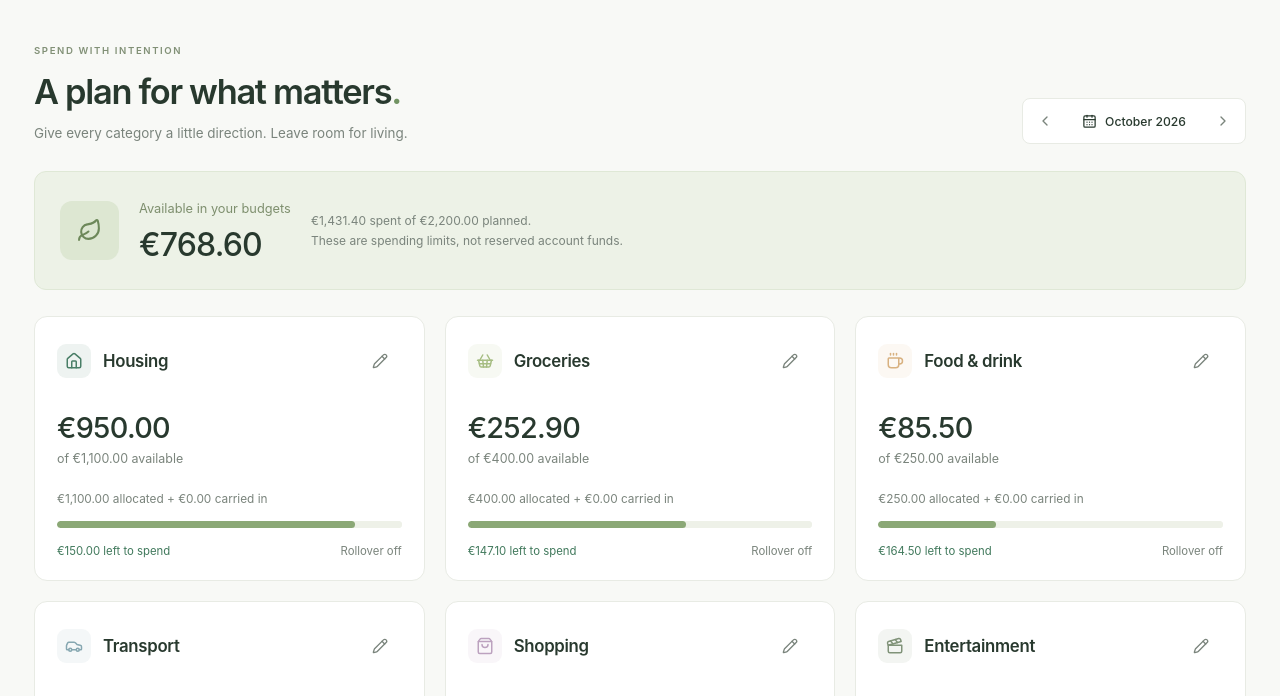
Scenario: planning workflows with real browser-local persistence › edits only the selected month and shows the original limit again in the next month
Click the button named "Edit Groceries budget" at {"x": 790, "y": 362}, box [768,340,812,384]
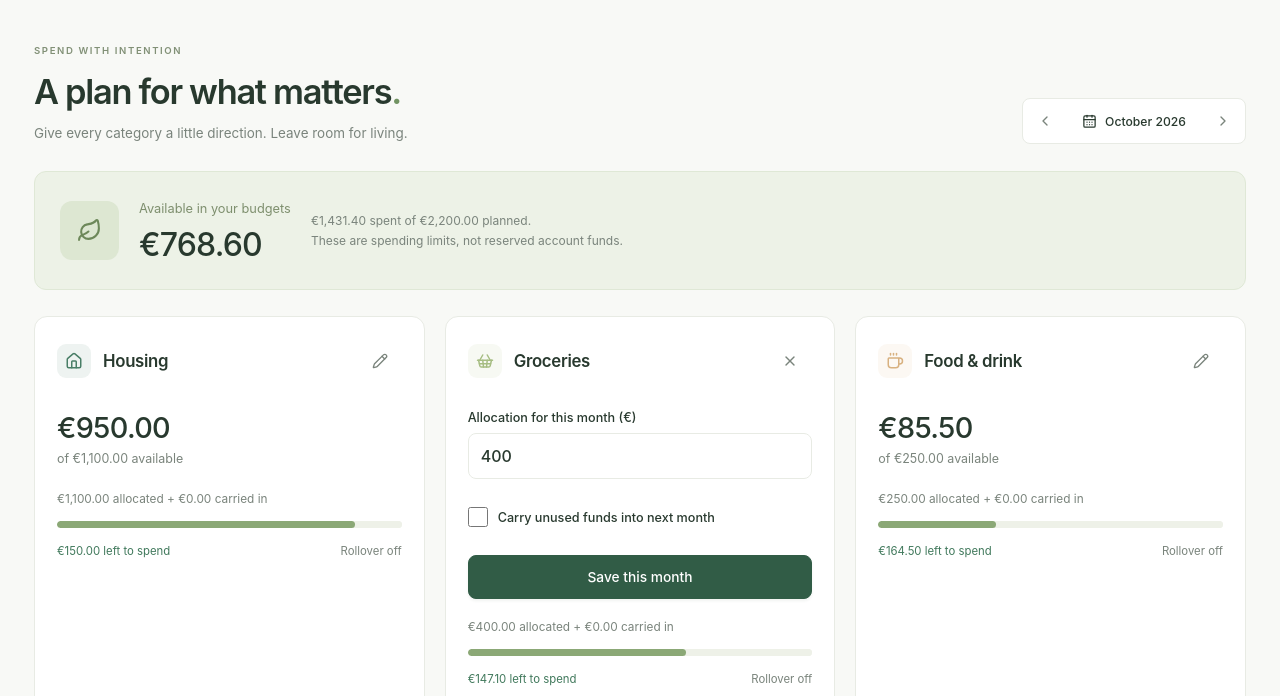
Replace the text in the number field labelled "Allocation for this month (€)" with "123.45" at {"x": 640, "y": 456}, box [468,434,812,480]
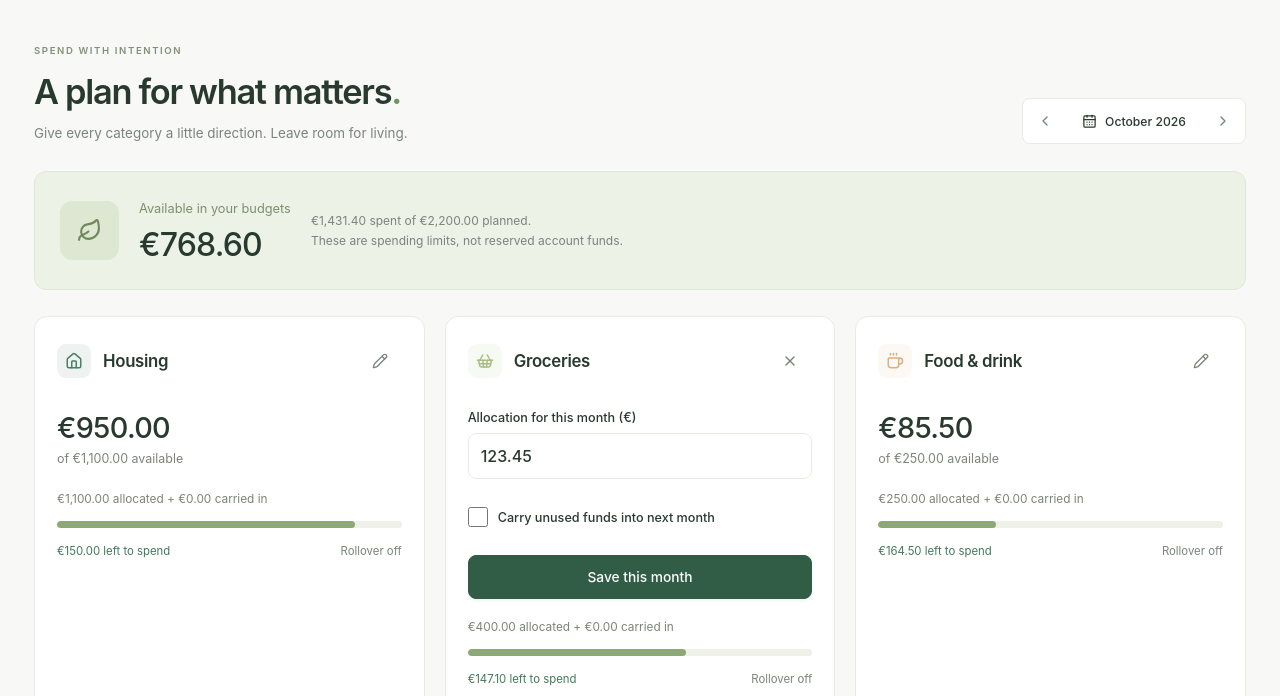
Click the checkbox labelled "Carry unused funds into next month" at {"x": 478, "y": 518}, box [468,508,488,528]
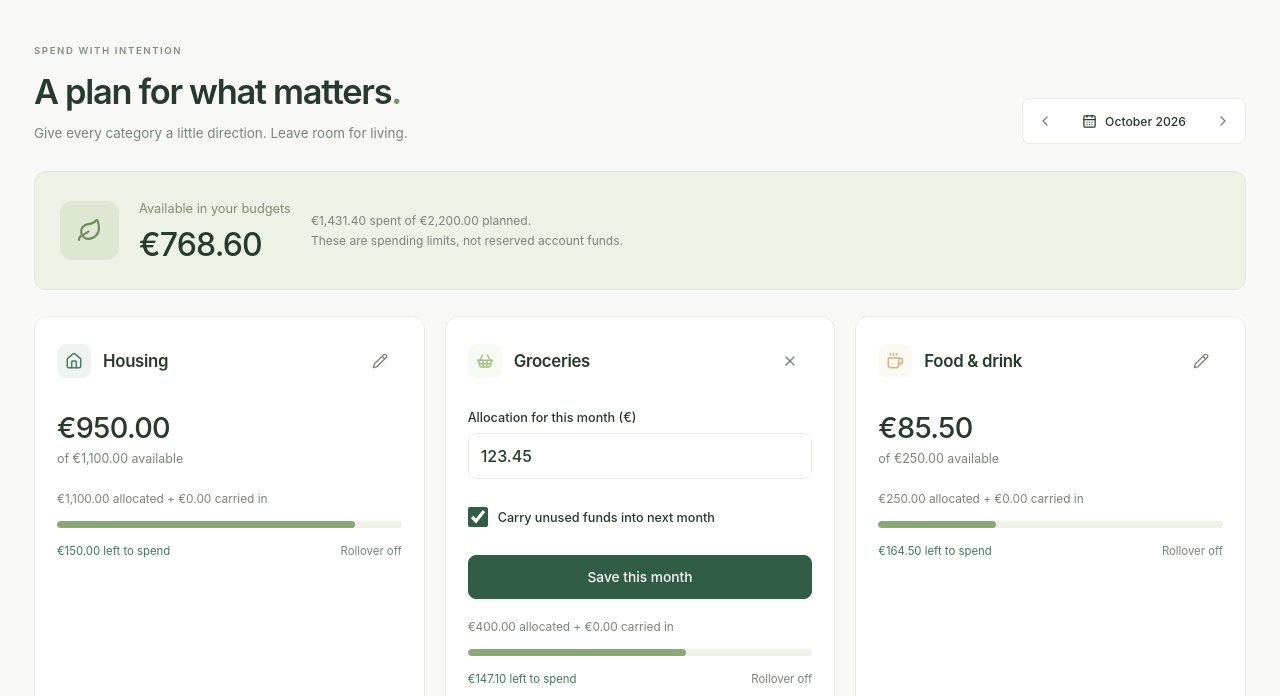
Click the button "Save this month" at {"x": 640, "y": 578}, box [468,556,812,600]
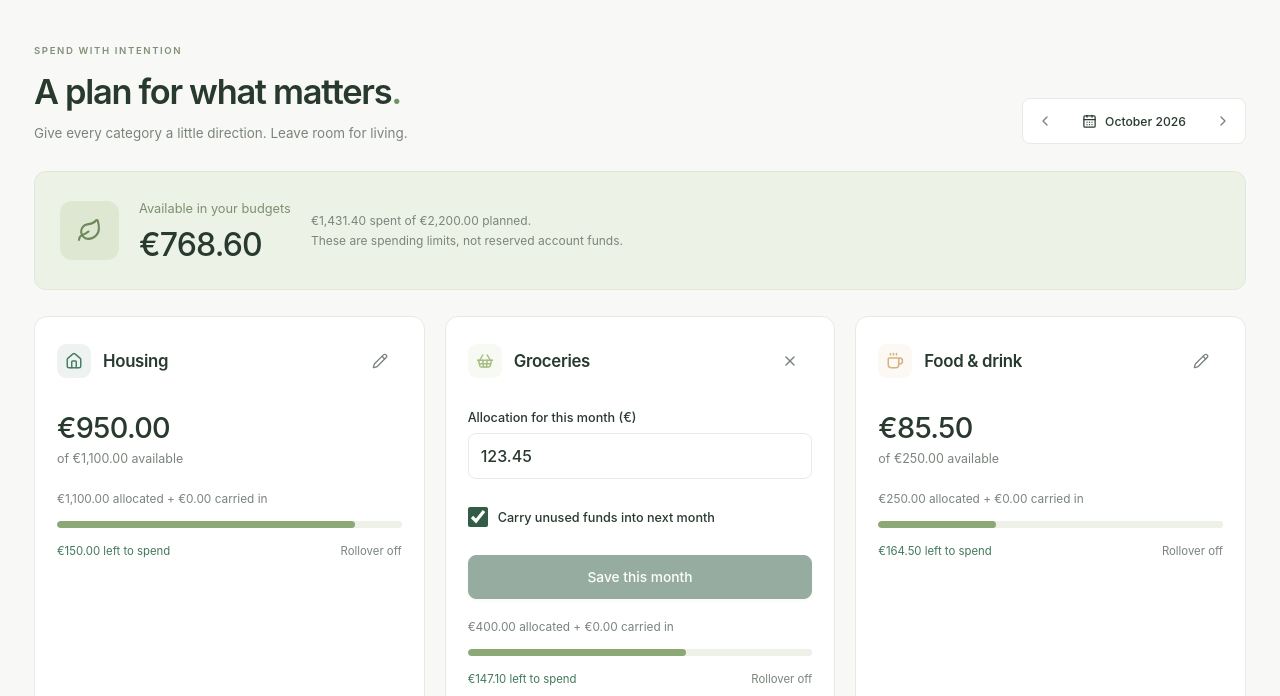
Click the button named "Next month" at {"x": 1223, "y": 122}, box [1201,100,1245,144]
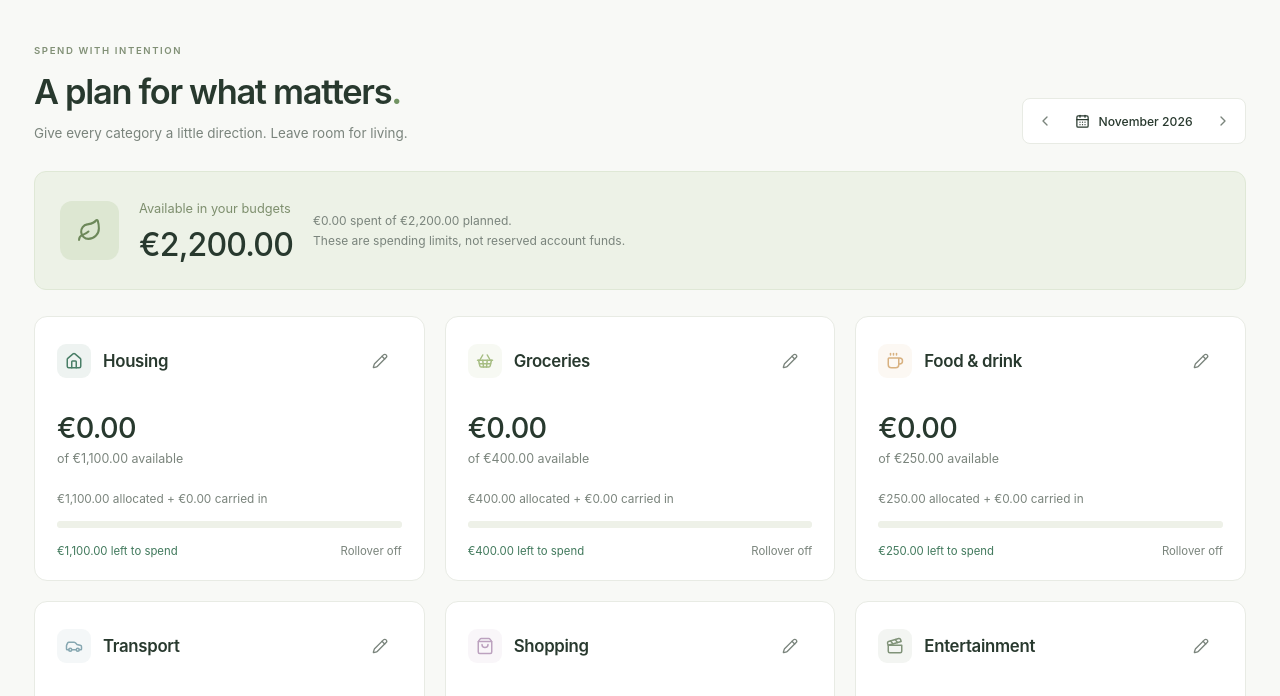
Click the button named "Edit Groceries budget" at {"x": 790, "y": 362}, box [768,340,812,384]
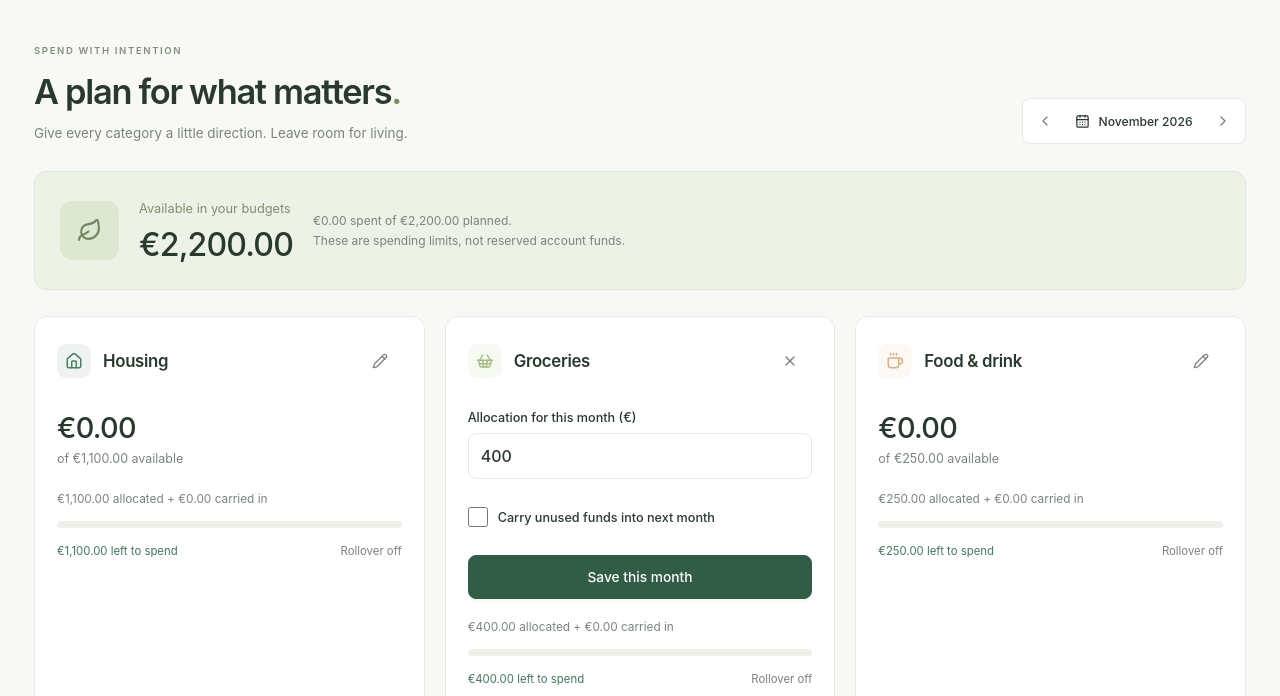
Expected: the number field labelled "Allocation for this month (€)" holds "400", [468,434,812,480]
